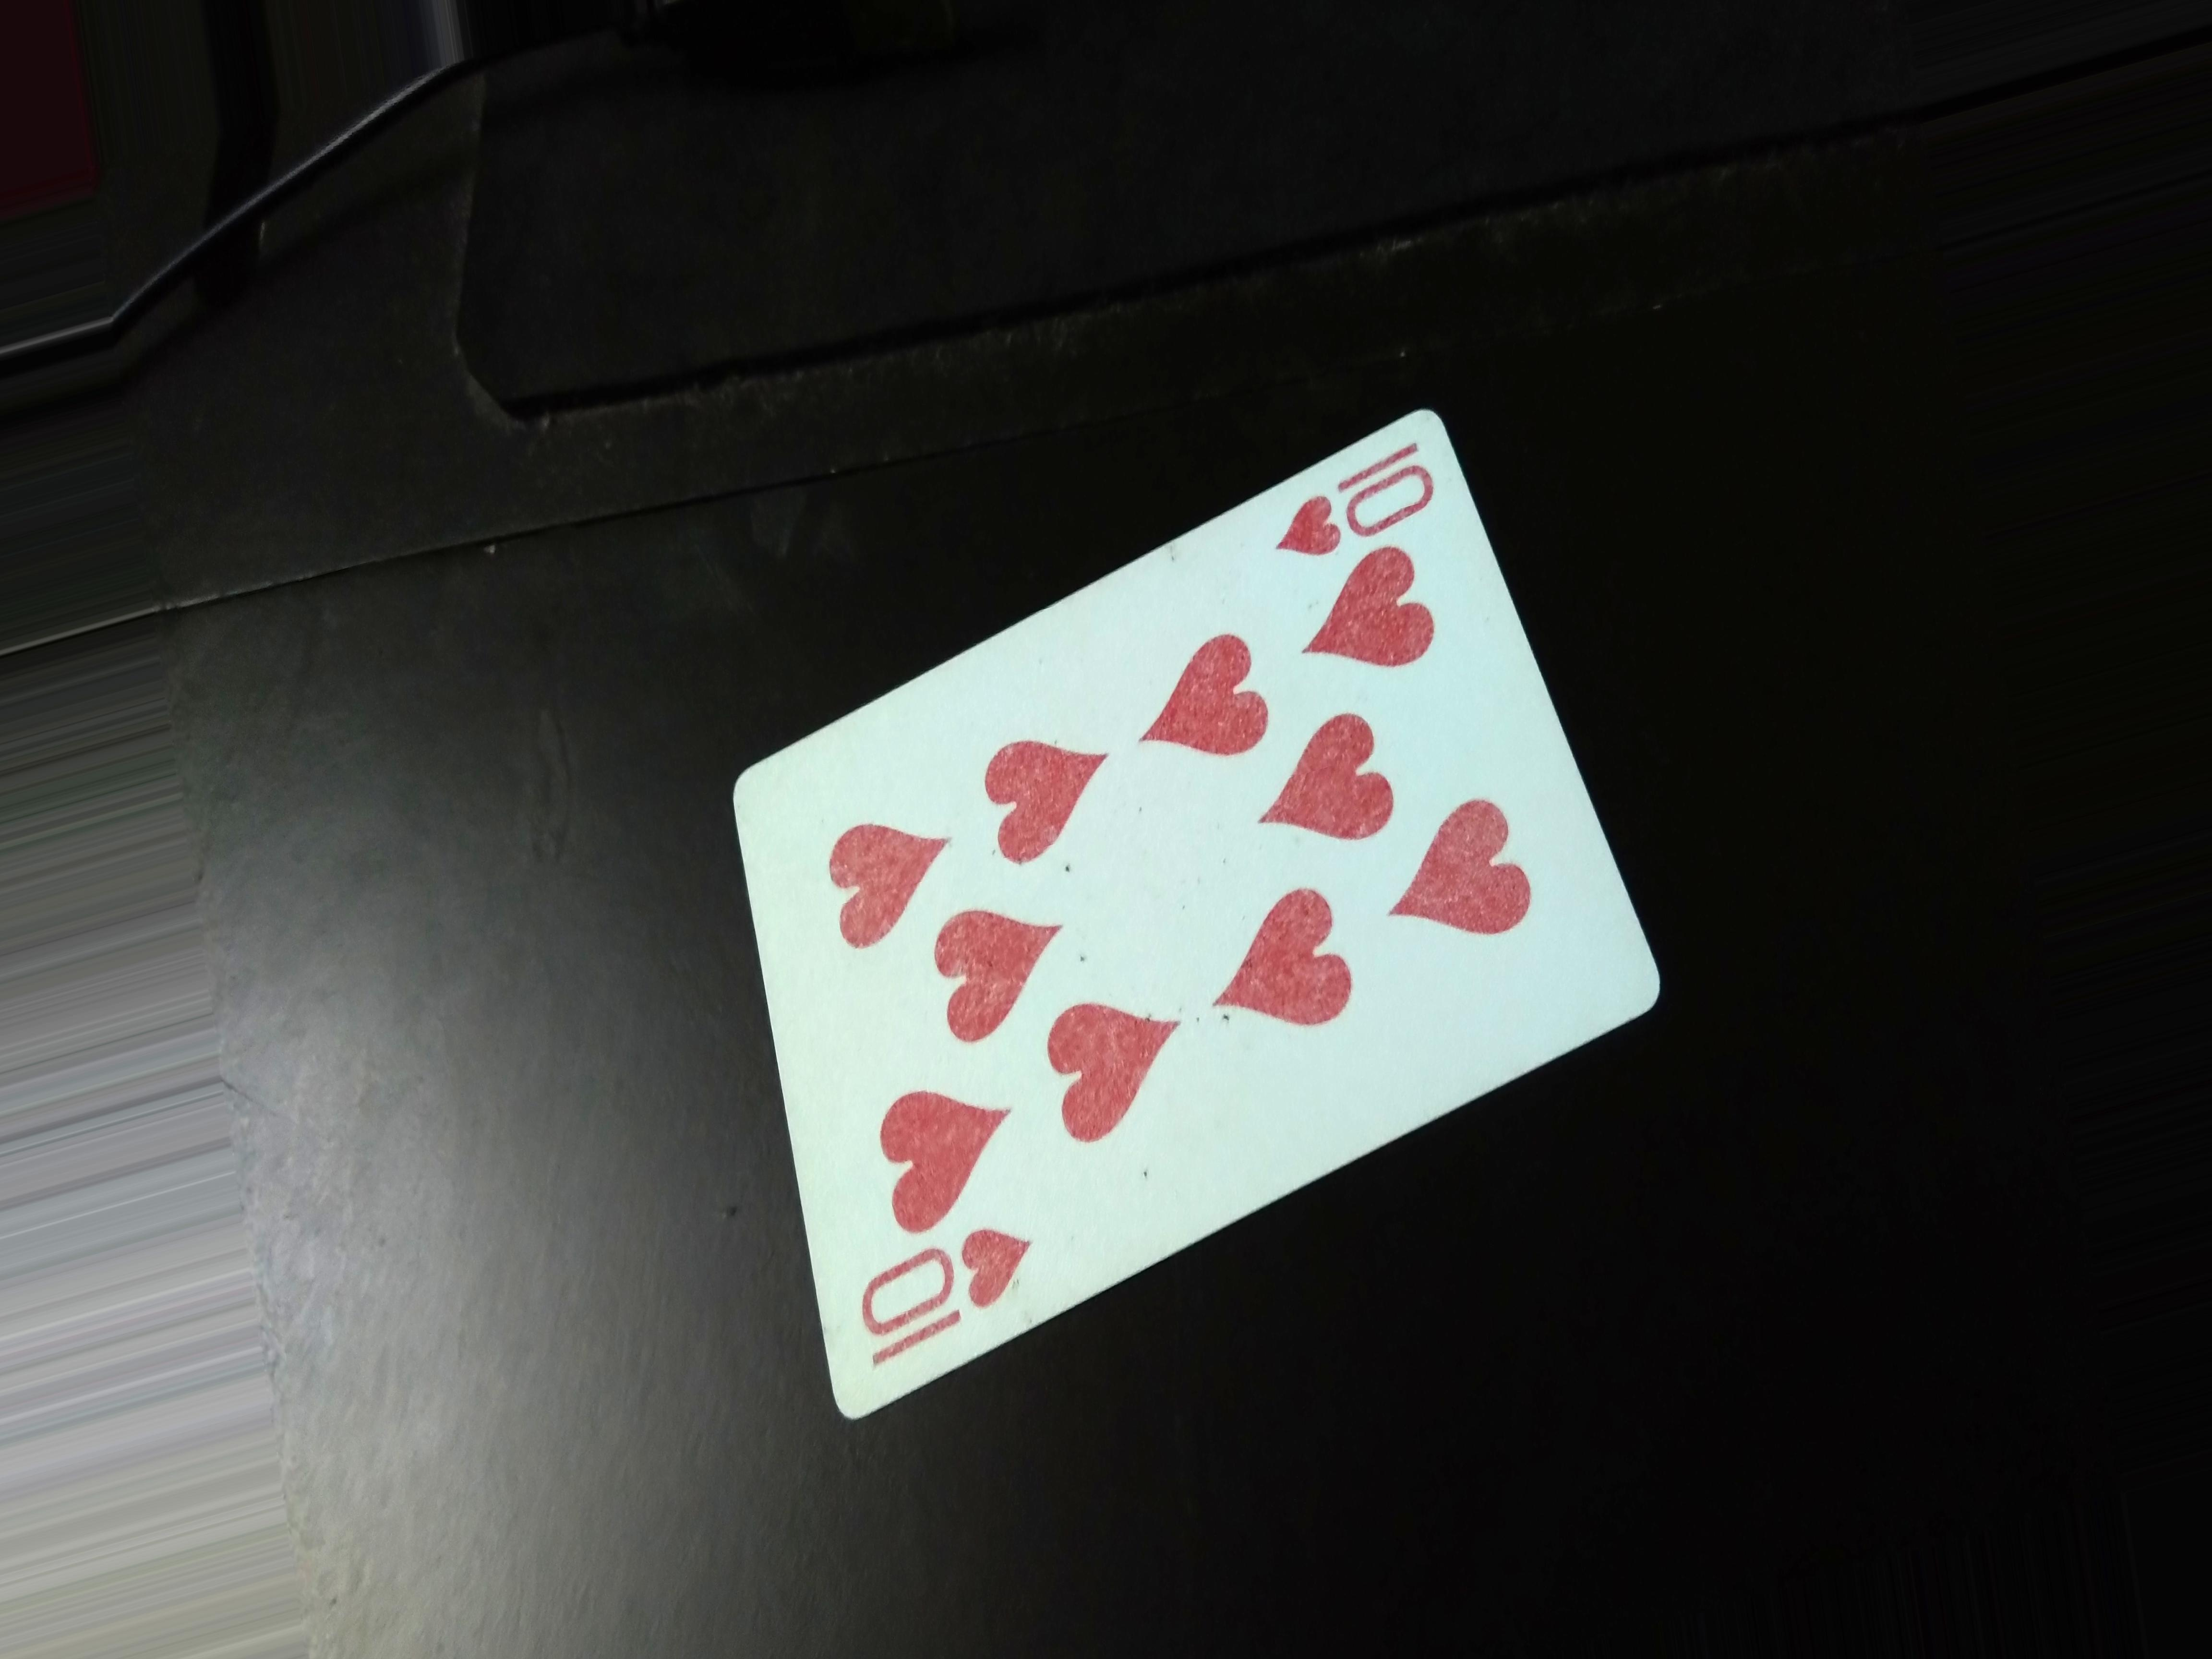10H: (1263, 423, 1449, 577)
